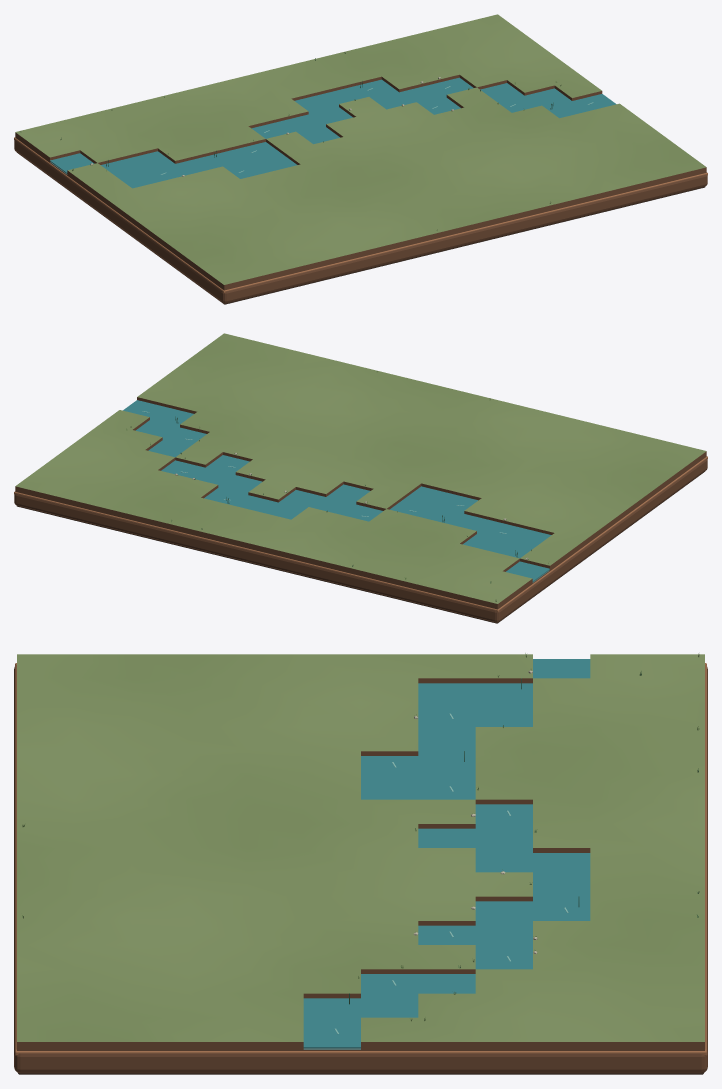
The model's file is terrain-game.glb.
3 views of the same model, one above another, from view 1: azimuth 30°, elevation 25°; view 2: azimuth 150°, elevation 25°; view 3: azimuth 270°, elevation 25° (orthographic). The views are drawn at different scales.
Visible parts, largest first — view 1: terrain-game · meadow, terrain-game · soil, terrain-game · water, terrain-game · clay_layer, terrain-game · soil_dark; view 2: terrain-game · meadow, terrain-game · soil, terrain-game · water, terrain-game · clay_layer, terrain-game · soil_dark; view 3: terrain-game · meadow, terrain-game · water, terrain-game · soil, terrain-game · clay_layer, terrain-game · soil_dark.
Part boxes in pixels (box(x1,y1,x2,y2)): terrain-game · meadow: box(15, 14, 706, 284); terrain-game · soil: box(14, 74, 707, 303); terrain-game · water: box(50, 77, 616, 188); terrain-game · clay_layer: box(14, 137, 707, 293); terrain-game · soil_dark: box(17, 152, 704, 304); terrain-game · meadow: box(15, 333, 706, 603); terrain-game · soil: box(14, 397, 707, 622); terrain-game · water: box(123, 400, 551, 581); terrain-game · clay_layer: box(14, 456, 707, 612); terrain-game · soil_dark: box(17, 471, 704, 623); terrain-game · meadow: box(17, 654, 704, 1041); terrain-game · water: box(303, 659, 590, 1048); terrain-game · soil: box(14, 665, 707, 1073); terrain-game · clay_layer: box(15, 663, 706, 1055); terrain-game · soil_dark: box(18, 1073, 703, 1074).
Bounding box in the file's own units: 16.1 × 0.7703 × 12.1.
